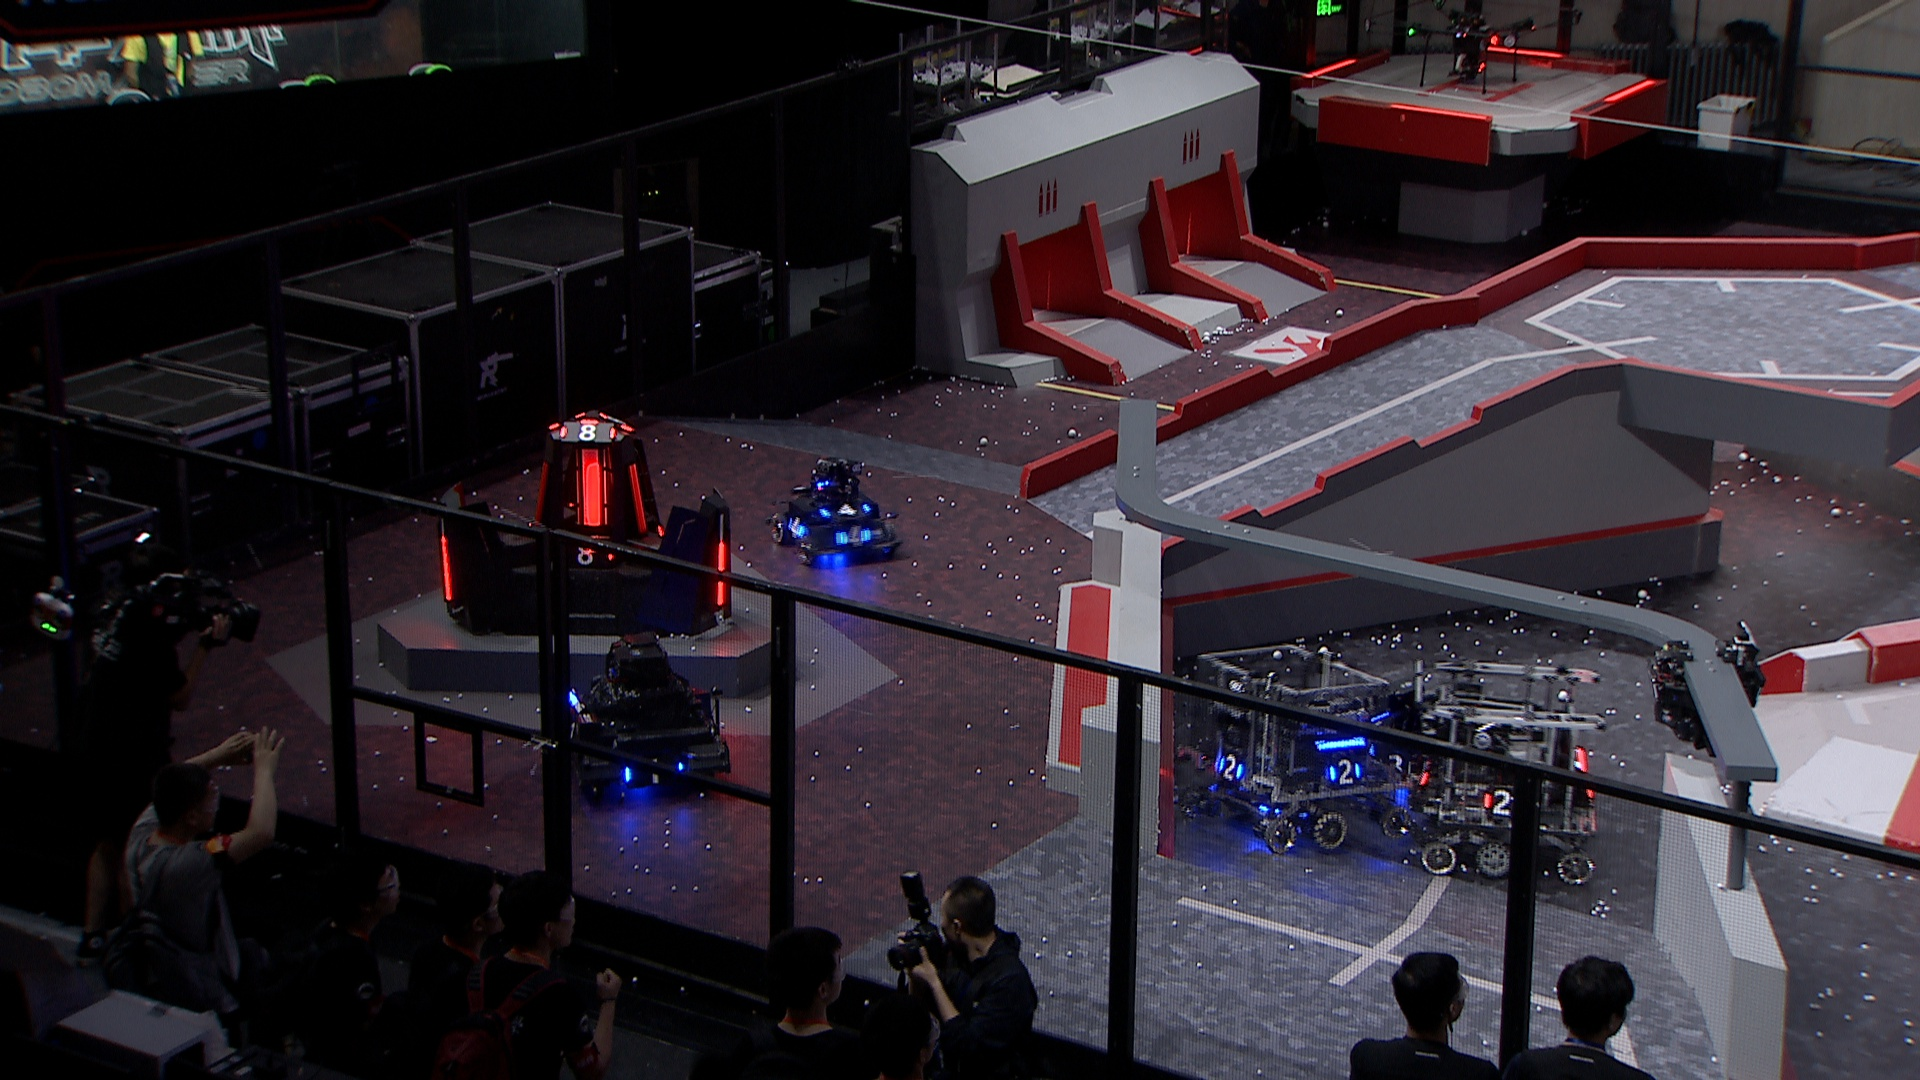armor: (572, 446, 611, 527), (618, 752, 688, 790), (524, 462, 555, 529), (560, 533, 618, 568), (556, 417, 618, 444), (626, 465, 651, 533), (434, 534, 455, 604), (1375, 746, 1415, 783), (818, 496, 877, 520), (1481, 789, 1518, 822), (1324, 757, 1362, 789), (835, 524, 876, 553), (716, 541, 733, 608), (1216, 756, 1247, 785), (785, 513, 812, 546), (560, 717, 584, 745)
base: (429, 409, 741, 636)
car: (1182, 638, 1415, 851), (1404, 650, 1602, 887), (555, 629, 733, 806), (760, 448, 910, 566)
watcher: (1647, 616, 1771, 757)
